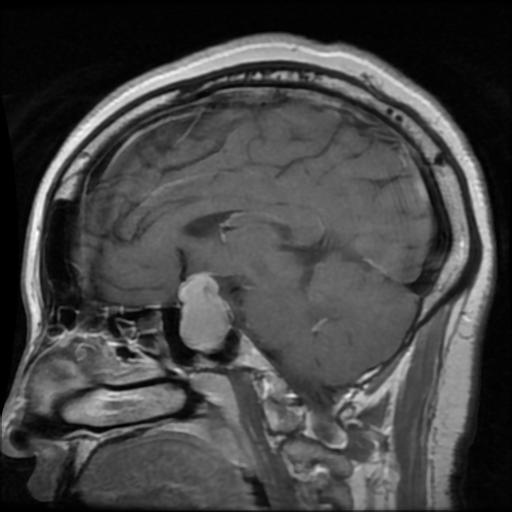Pituirity_tumour: (178, 276, 229, 347)
